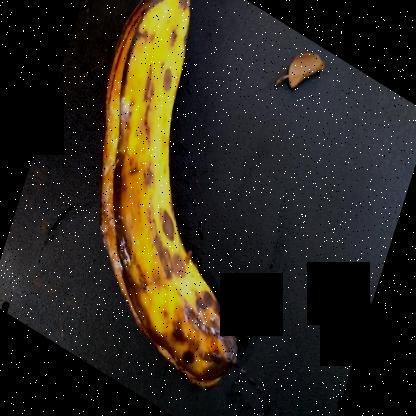rotten: (83, 0, 245, 387)
